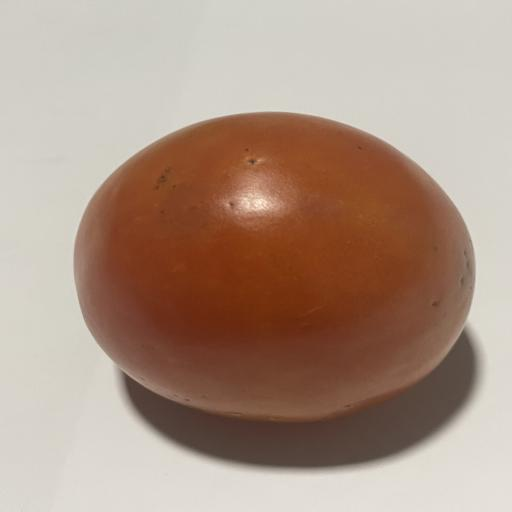unripe: (74, 113, 475, 421)
